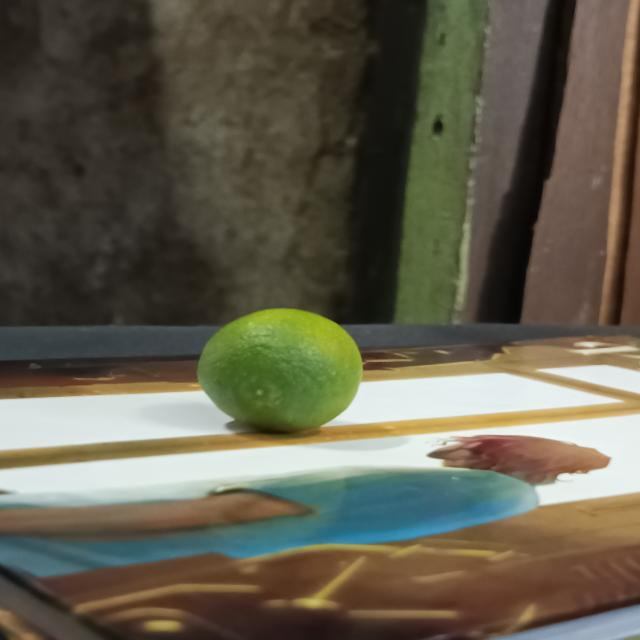heathy: (198, 304, 369, 430)
